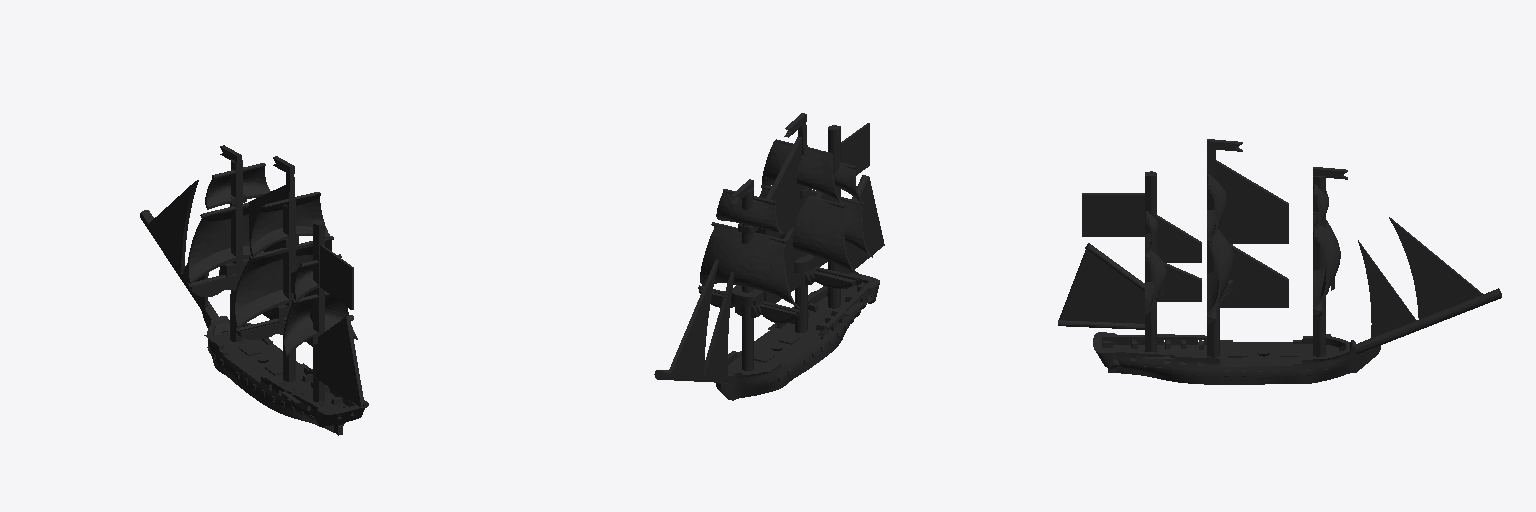
3 renders of one model, left to right at view 1: azimuth 30°, elevation 25°; view 2: azimuth 150°, elevation 25°; view 3: azimuth 270°, elevation 25°, orthographic.
Visible parts, largest first — view 1: 5r.obj; view 2: 5r.obj; view 3: 5r.obj.
Part boxes in pixels (x1,y1,x2,y2): 5r.obj: (140, 145, 368, 435); 5r.obj: (654, 113, 884, 400); 5r.obj: (1058, 139, 1501, 384).
Size of the model in its own units: 1.89 by 3.76 by 6.54.